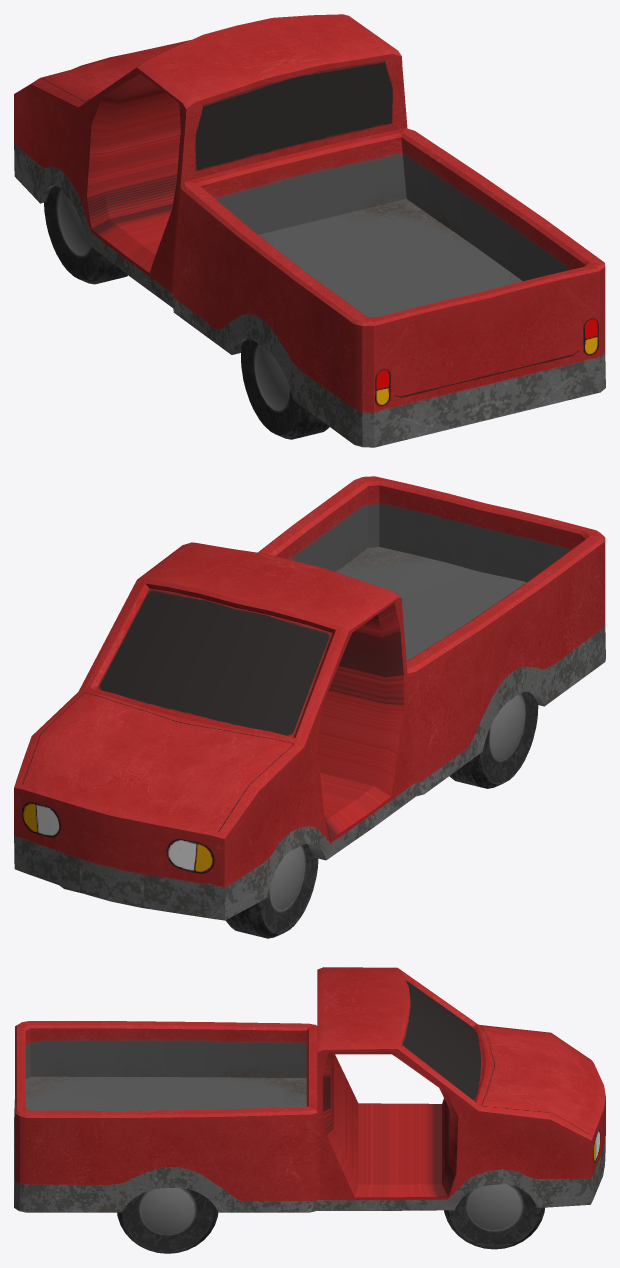
The model's file is car.gltf.
3 views of the same model, one above another, from view 1: azimuth 30°, elevation 25°; view 2: azimuth 150°, elevation 25°; view 3: azimuth 270°, elevation 25° (orthographic). The views are drawn at different scales.
Parts seen in each view (by area): view 1: TBC; view 2: TBC; view 3: TBC.
Boxes of the visible parts, left/top/right/bottom form: TBC: left=14, top=14, right=605, bottom=447; TBC: left=14, top=476, right=605, bottom=938; TBC: left=14, top=967, right=605, bottom=1253.
Bounding box in the file's own units: 5.04 × 5.19 × 13.12.
1 material, 1 textured.
